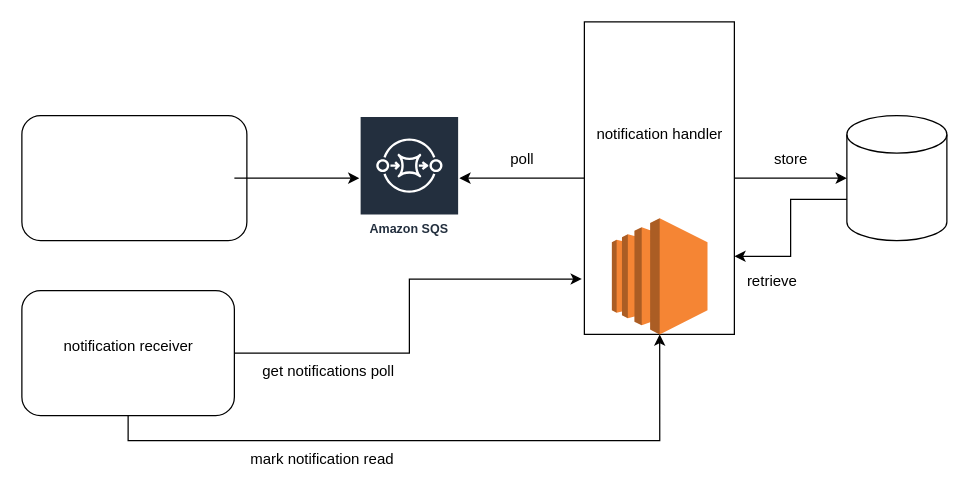
This 969x500 diagram has some shape labels left out. The box of each missing label's shape, as (x1, y1, x2, y2) in pixels:
database: (846, 114, 947, 241)
notification generator app: (21, 114, 247, 241)
